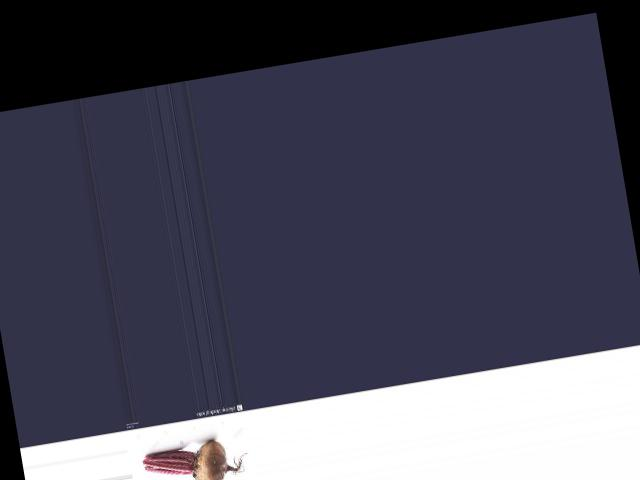beet: (140, 435, 251, 480)
